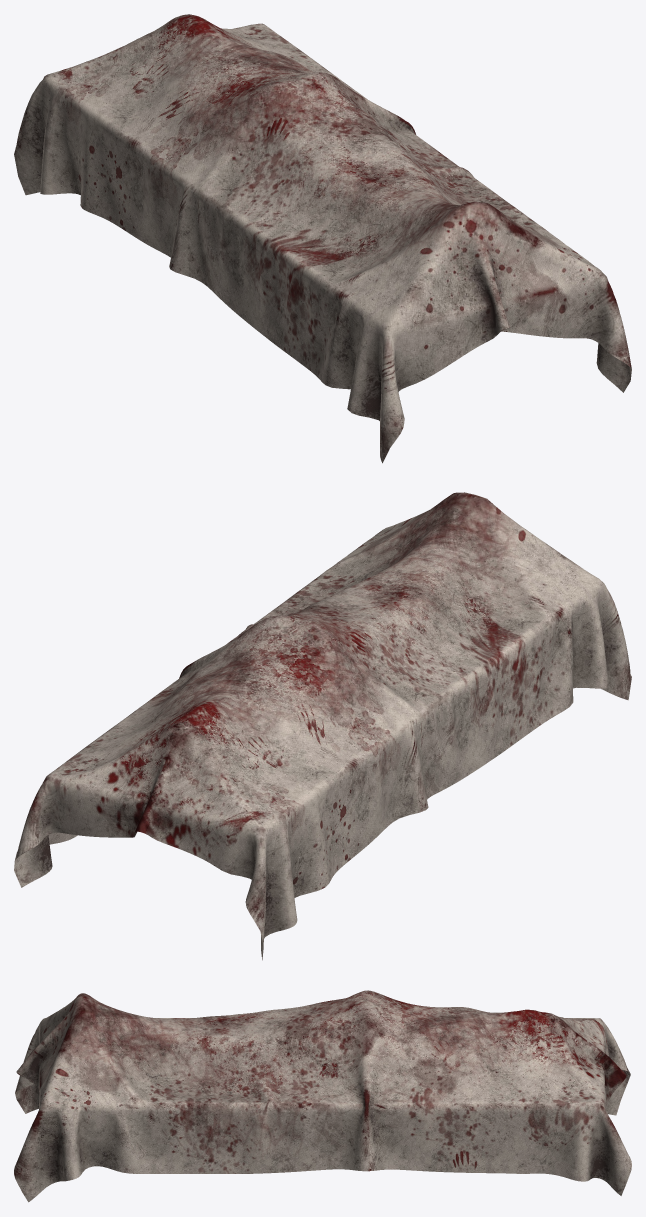
File: corpse.glb
3 views of the same model, one above another, from view 1: azimuth 30°, elevation 25°; view 2: azimuth 150°, elevation 25°; view 3: azimuth 270°, elevation 25° (orthographic). The views are drawn at different scales.
Parts seen in each view (by area): view 1: defaultobject; view 2: defaultobject; view 3: defaultobject.
Part boxes in pixels (<box>): defaultobject: <box>14,14,631,463</box>; defaultobject: <box>14,492,631,960</box>; defaultobject: <box>14,990,631,1202</box>.
Bounding box in the file's own units: 65.9 × 48.24 × 163.
1 material, 1 textured.
